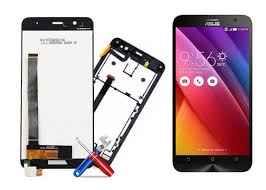asus: (169, 11, 255, 174)
